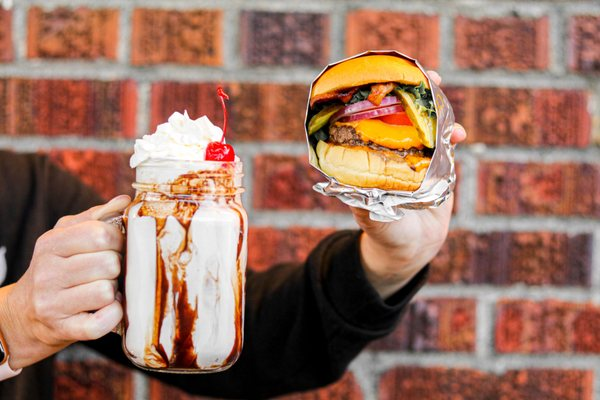burger: (121, 107, 250, 376)
